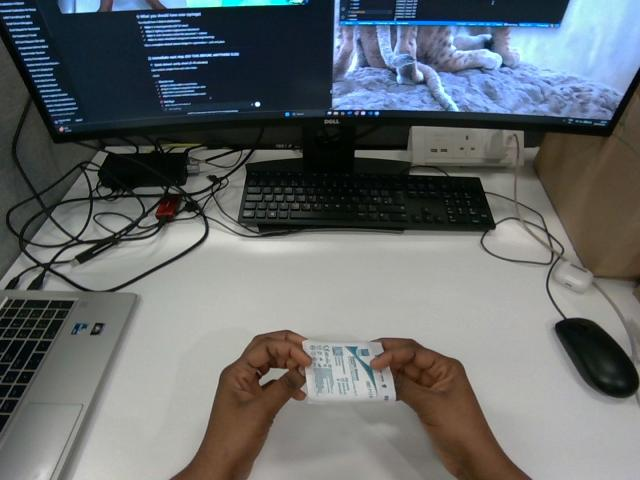gauze: (303, 340, 395, 403)
